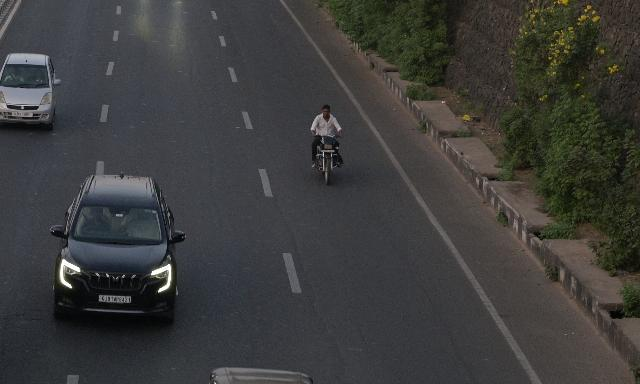Without Helmet: (319, 102, 333, 116)
